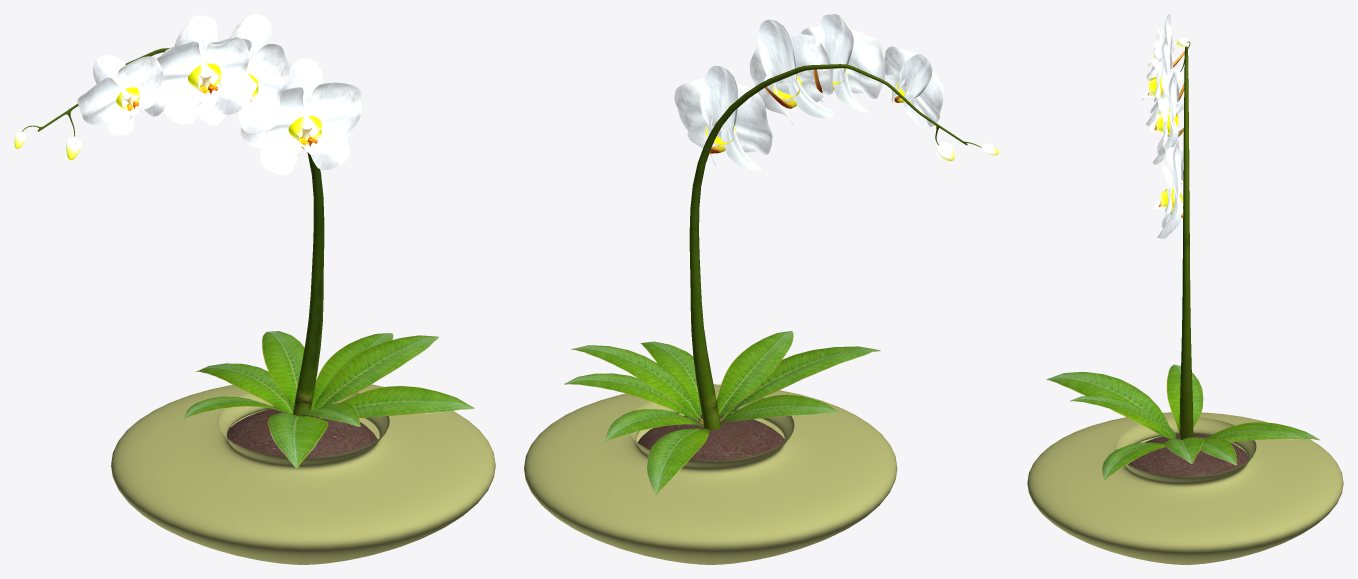
The model's file is orchid.glb.
3 views of the same model, side by side, from view 1: azimuth 30°, elevation 25°; view 2: azimuth 150°, elevation 25°; view 3: azimuth 270°, elevation 25° (orthographic). The views are drawn at different scales.
Visible parts, largest first — view 1: Object_3, Object_6, Object_5, Object_2, Object_4; view 2: Object_3, Object_6, Object_5, Object_2, Object_4; view 3: Object_3, Object_5, Object_6, Object_2, Object_4.
Boxes of the visible parts, bbox=[...] form: Object_3: bbox=[111, 379, 495, 564]; Object_6: bbox=[14, 14, 361, 174]; Object_5: bbox=[184, 331, 474, 467]; Object_2: bbox=[22, 48, 324, 416]; Object_4: bbox=[227, 408, 377, 457]; Object_3: bbox=[524, 384, 897, 564]; Object_6: bbox=[674, 14, 998, 170]; Object_5: bbox=[564, 331, 880, 494]; Object_2: bbox=[689, 64, 981, 430]; Object_4: bbox=[637, 414, 784, 460]; Object_3: bbox=[1027, 412, 1343, 564]; Object_5: bbox=[1046, 364, 1320, 480]; Object_6: bbox=[1142, 14, 1188, 238]; Object_2: bbox=[1179, 41, 1193, 439]; Object_4: bbox=[1128, 433, 1248, 476].
Size of the model in its own units: 1.55 by 1.81 by 1.12.
Materials: 5 (4 with a texture image).
